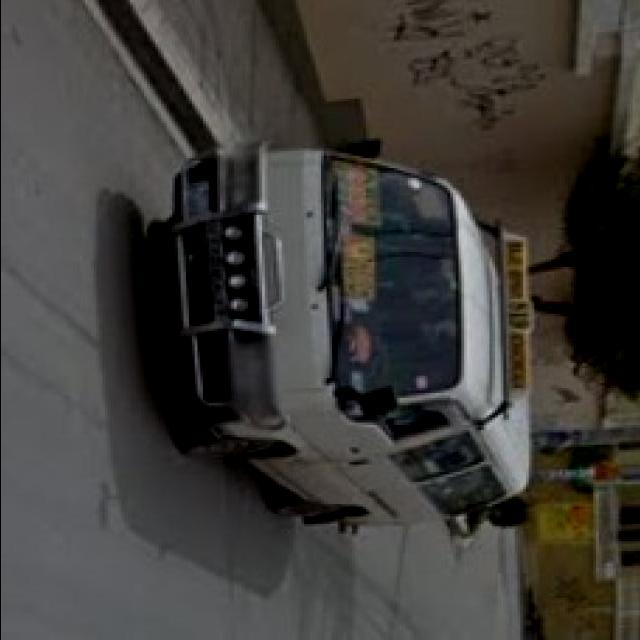bus: (165, 146, 524, 525)
